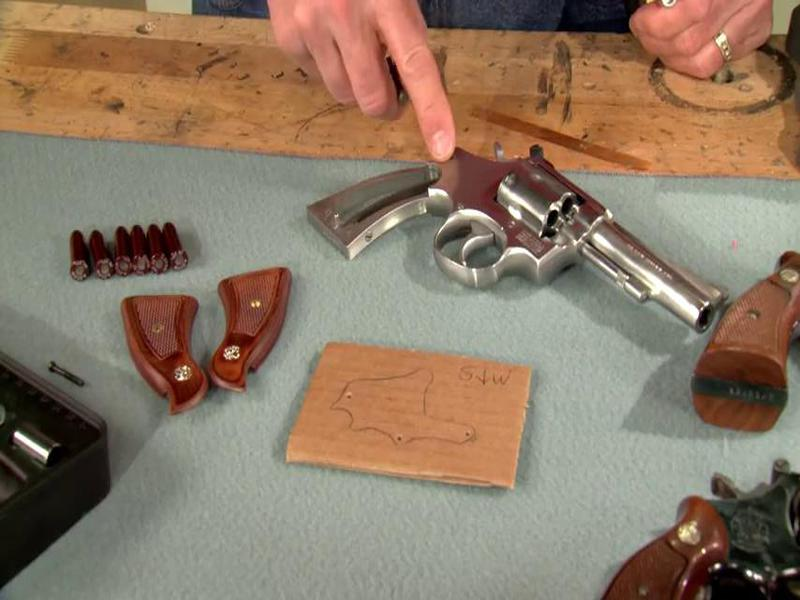Revolver: (307, 103, 766, 386)
